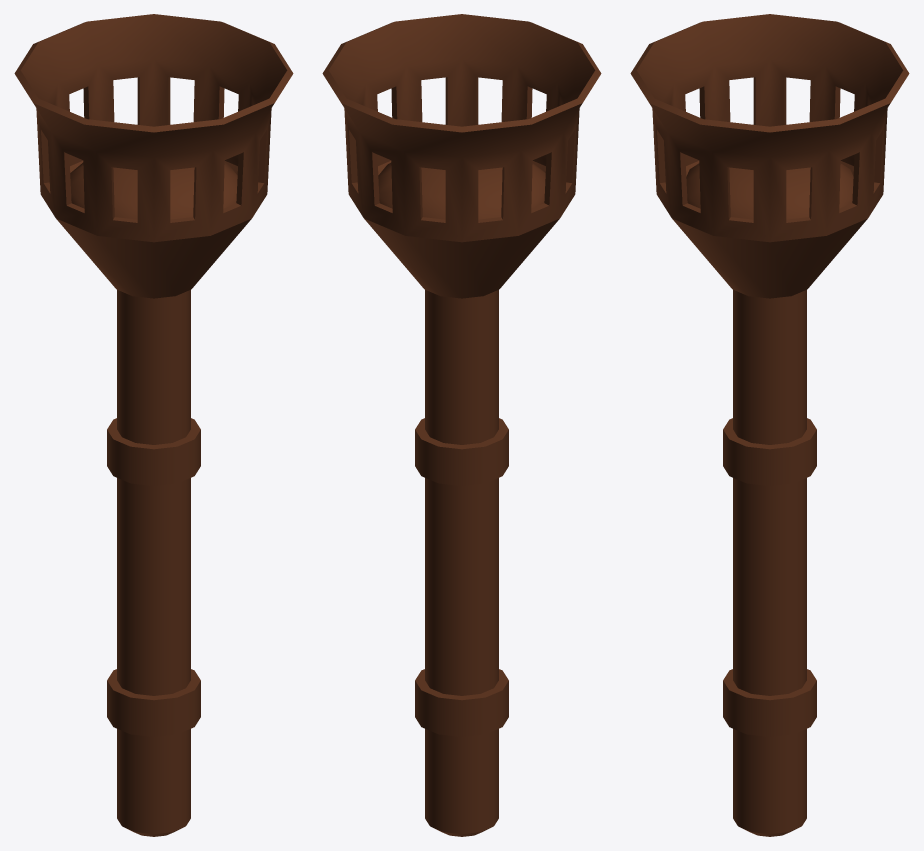
File: Antorcha.fbx
3 renders of one model, left to right at view 1: azimuth 30°, elevation 25°; view 2: azimuth 150°, elevation 25°; view 3: azimuth 270°, elevation 25°, orthographic.
Parts seen in each view (by area): view 1: Cylinder002; view 2: Cylinder002; view 3: Cylinder002.
Boxes of the visible parts, bbox=[...] form: Cylinder002: bbox=[14, 14, 293, 836]; Cylinder002: bbox=[322, 14, 601, 836]; Cylinder002: bbox=[630, 14, 909, 836].
Size of the model in its own units: 11.33 by 33.89 by 11.33.
